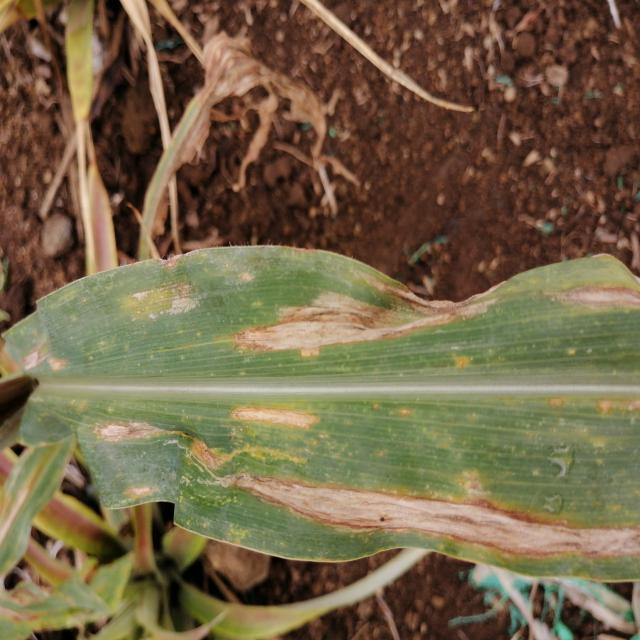Corn_Leaf_Blight: (25, 247, 640, 580)
